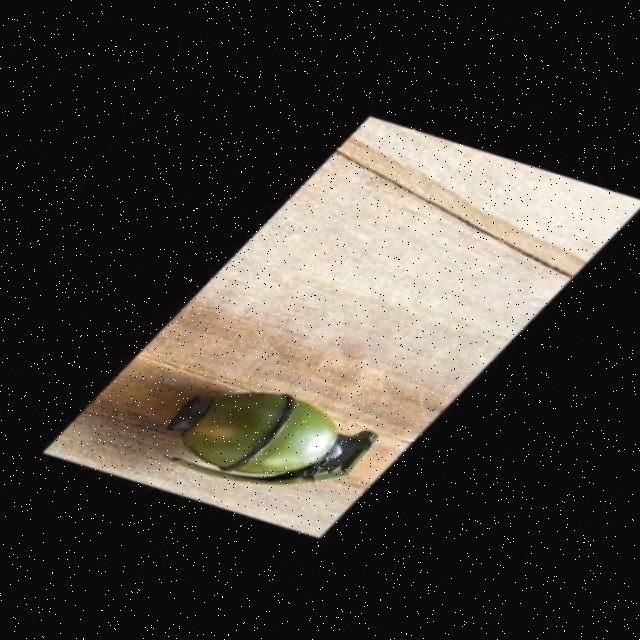grenade: (121, 343, 399, 526)
